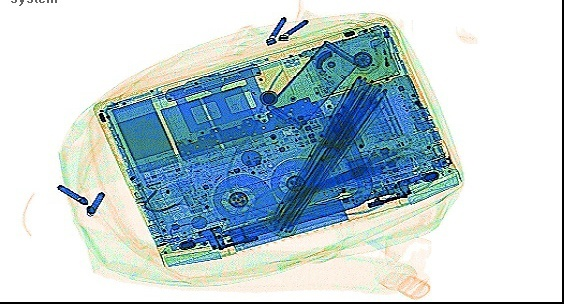lighter: (369, 35, 395, 86)
scissors: (283, 136, 426, 206)
zippooil: (265, 38, 358, 130)
